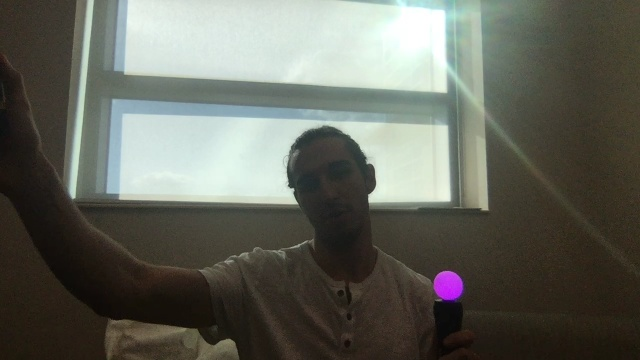wand: (435, 271, 463, 300)
